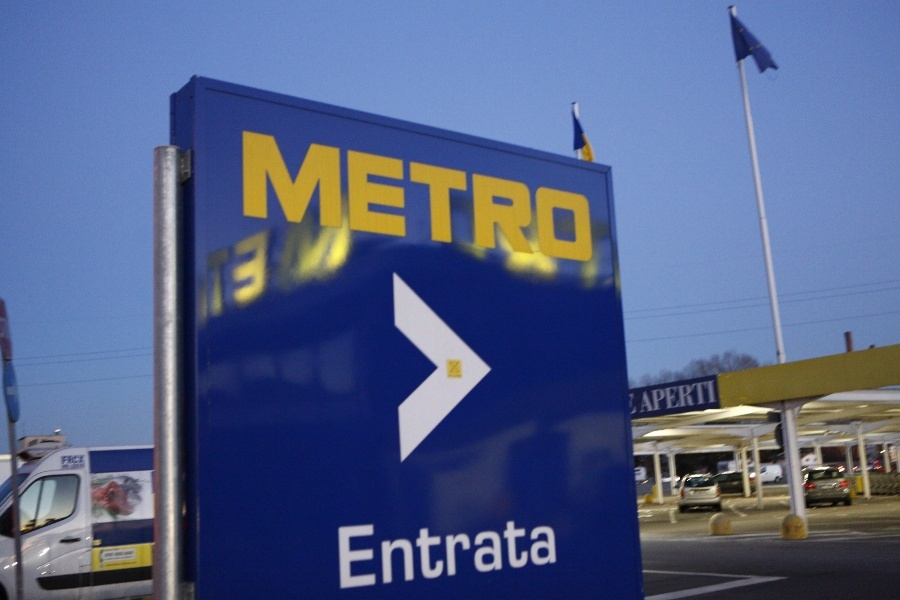text: (337, 187, 353, 322), (241, 129, 256, 268), (257, 129, 272, 268), (273, 129, 288, 268), (289, 129, 304, 268), (305, 129, 320, 268), (321, 129, 336, 268), (337, 129, 352, 268), (353, 129, 368, 268), (369, 129, 384, 268), (385, 129, 400, 268), (401, 129, 416, 268), (417, 129, 432, 268), (433, 129, 448, 268), (449, 129, 464, 268), (465, 129, 480, 268), (481, 129, 496, 268), (497, 129, 512, 268), (513, 129, 528, 268), (529, 129, 544, 268), (545, 129, 560, 268), (561, 129, 576, 268), (577, 129, 592, 268), (209, 187, 224, 322), (225, 187, 240, 322), (241, 187, 256, 322), (257, 187, 272, 322), (273, 187, 288, 322), (289, 187, 304, 322), (305, 187, 320, 322), (321, 187, 336, 322), (337, 512, 352, 593), (353, 512, 368, 593), (369, 512, 384, 593), (385, 512, 400, 593), (401, 512, 416, 593), (417, 512, 432, 593), (433, 512, 448, 593), (449, 512, 464, 593), (465, 512, 480, 593), (481, 512, 496, 593), (497, 512, 512, 593), (513, 512, 528, 593), (529, 512, 544, 593), (545, 512, 560, 593), (202, 187, 208, 322), (657, 379, 672, 417), (673, 379, 688, 417), (689, 379, 704, 417), (705, 379, 720, 417), (642, 379, 656, 417), (626, 392, 640, 418), (238, 129, 240, 268), (593, 129, 595, 268), (65, 454, 80, 470), (113, 549, 128, 562), (104, 549, 112, 562), (81, 454, 86, 470), (129, 549, 134, 562), (60, 454, 64, 470)
